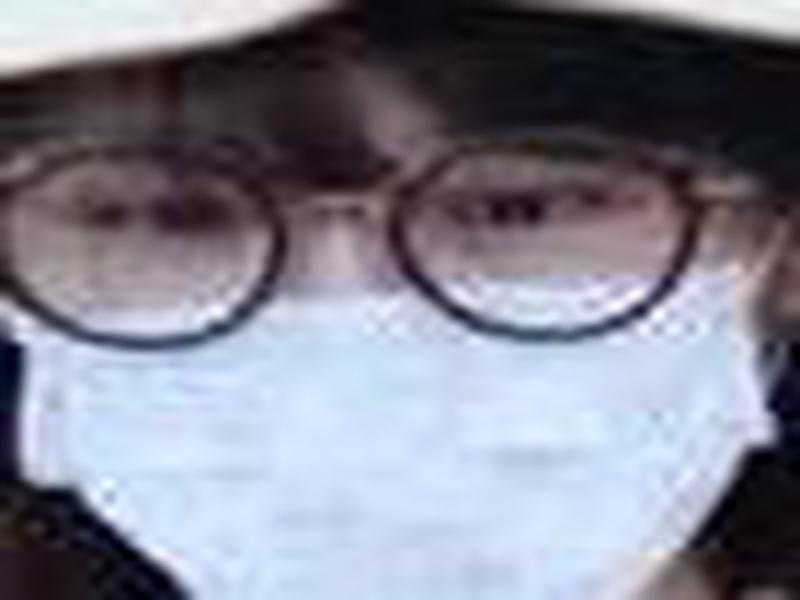with_mask: (1, 25, 798, 600)
